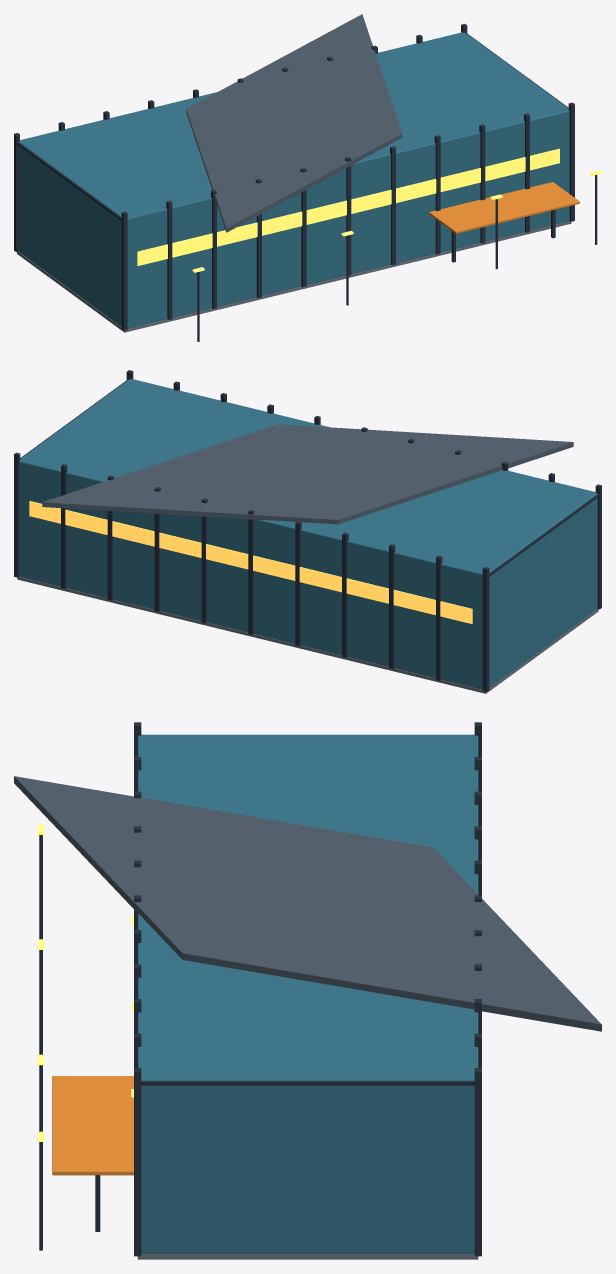
File: material-processing-high.glb
3 views of the same model, one above another, from view 1: azimuth 30°, elevation 25°; view 2: azimuth 150°, elevation 25°; view 3: azimuth 270°, elevation 25° (orthographic). The views are drawn at different scales.
Parts seen in each view (by area): view 1: processing_hall, processing_hall_roof, continuous_window, loading_bay_canopy, processing_foundation, steel_column, steel_column.002, steel_column.020, steel_column.014, steel_column.012, steel_column.001, steel_column.008 (+5 smaller); view 2: processing_hall, processing_hall_roof, continuous_window.001, processing_foundation, steel_column.001, steel_column.021, steel_column.005, steel_column.009, steel_column.003, steel_column.007, steel_column.011, steel_column.019 (+5 smaller); view 3: processing_hall, processing_hall_roof, loading_bay_canopy, processing_foundation, roof_truss.010, steel_column.020, steel_column.021.
Part boxes in pixels (x1,y1,x2,y2): processing_hall: (18, 32, 569, 328); processing_hall_roof: (186, 14, 402, 232); continuous_window: (137, 148, 559, 265); loading_bay_canopy: (429, 182, 579, 233); processing_foundation: (17, 221, 571, 332); steel_column: (121, 211, 127, 330); steel_column.002: (166, 201, 172, 319); steel_column.020: (568, 102, 574, 221); steel_column.014: (434, 135, 440, 254); steel_column.012: (390, 146, 395, 265); steel_column.001: (14, 133, 19, 252); steel_column.008: (300, 168, 306, 287); processing_hall: (19, 379, 597, 689); processing_hall_roof: (42, 424, 573, 524); continuous_window.001: (29, 501, 472, 623); processing_foundation: (17, 576, 598, 693); steel_column.001: (482, 567, 489, 691); steel_column.021: (14, 452, 20, 577); steel_column.005: (389, 544, 395, 668); steel_column.009: (295, 521, 301, 646); steel_column.003: (436, 555, 442, 680); steel_column.007: (342, 532, 348, 657); steel_column.011: (248, 510, 254, 634); steel_column.019: (61, 464, 67, 588); processing_hall: (137, 734, 478, 1254); processing_hall_roof: (14, 776, 601, 1031); loading_bay_canopy: (52, 1076, 133, 1175); processing_foundation: (137, 1254, 478, 1259); roof_truss.010: (141, 1081, 474, 1085); steel_column.020: (134, 1068, 141, 1256); steel_column.021: (474, 1068, 481, 1256).
Size of the model in its own units: 72.65 by 18.45 by 51.76.
